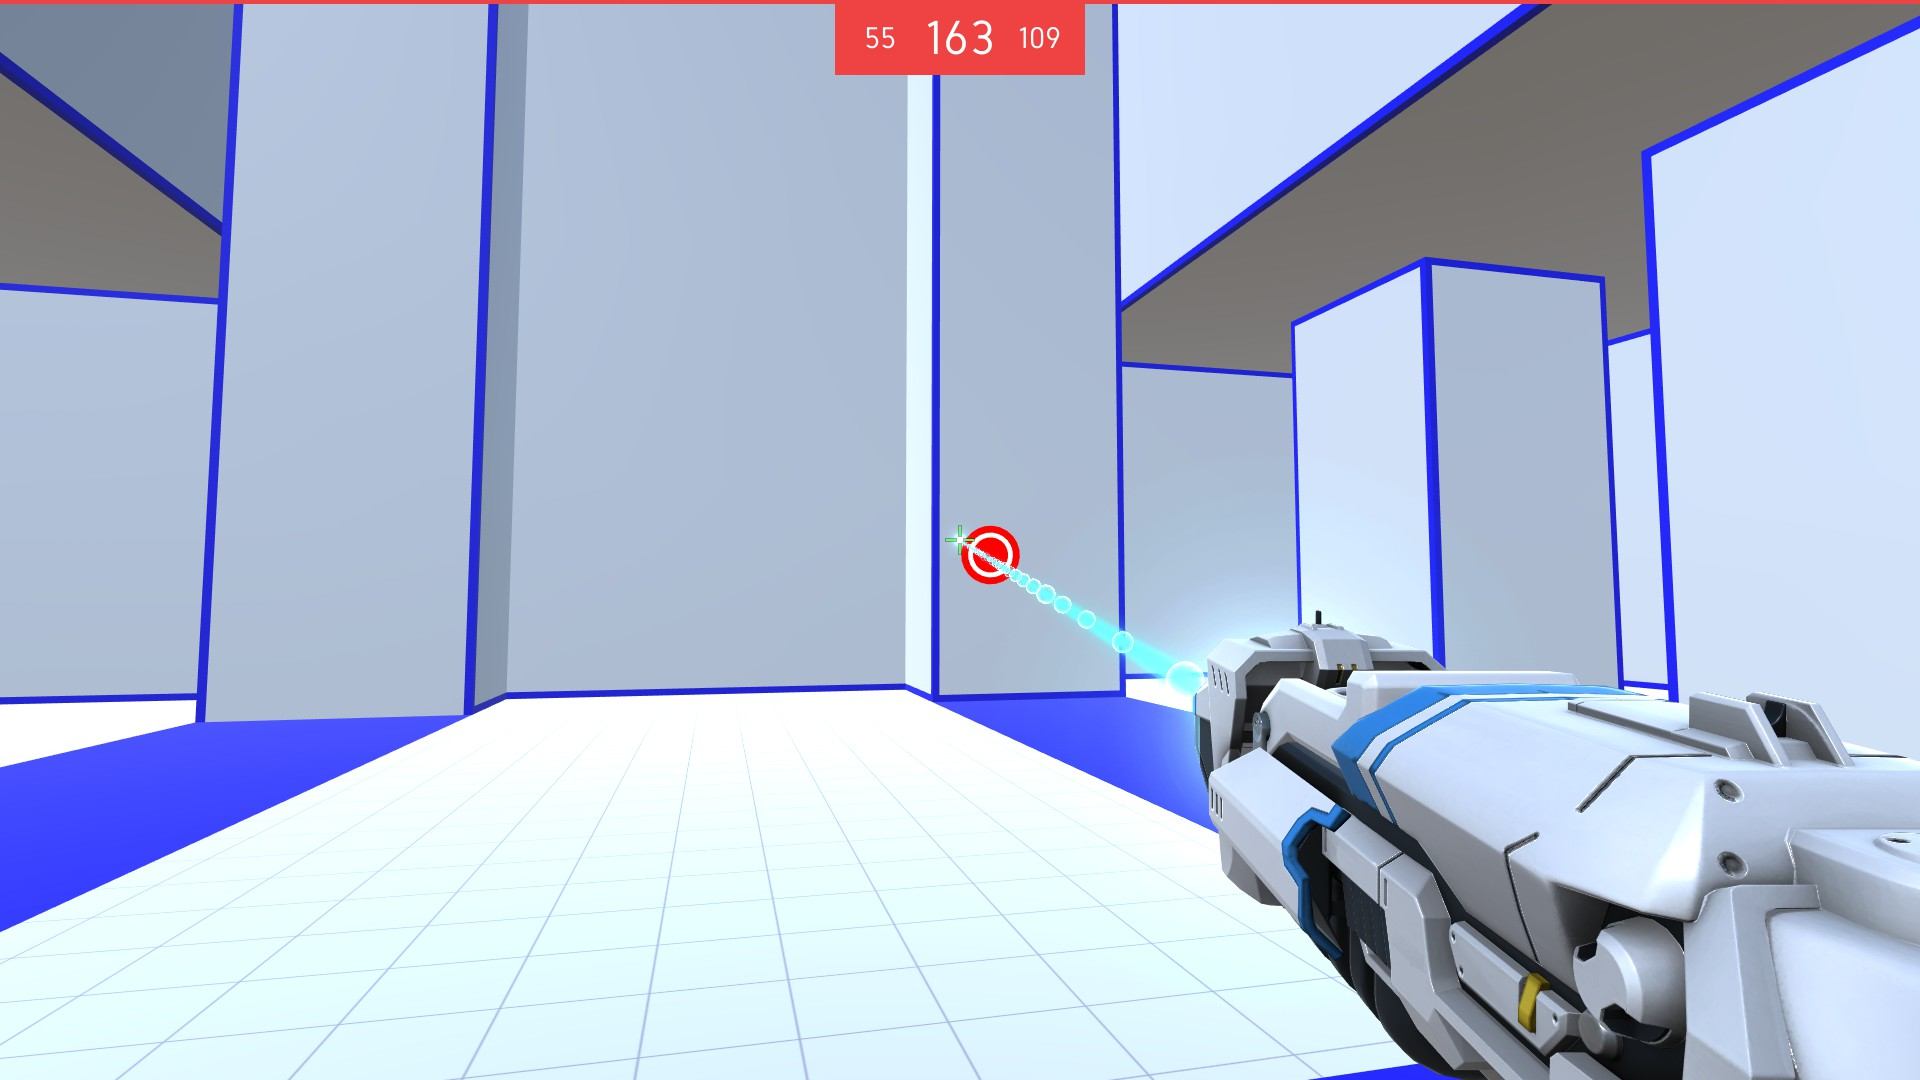target: (955, 524, 1026, 587)
